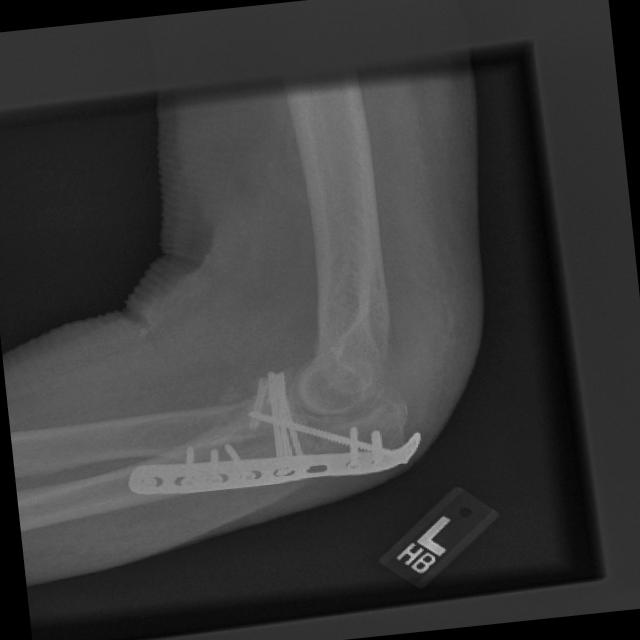elbow positive: (282, 398, 387, 480)
